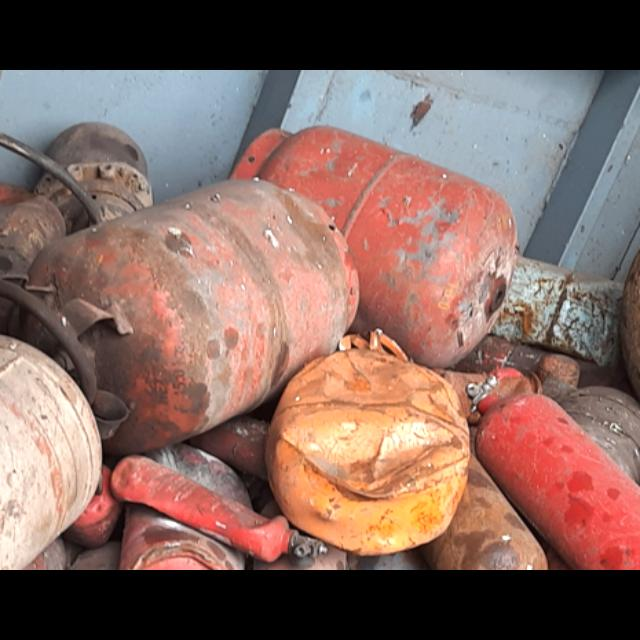Cylinders: (24, 178, 362, 458), (233, 123, 511, 366)
